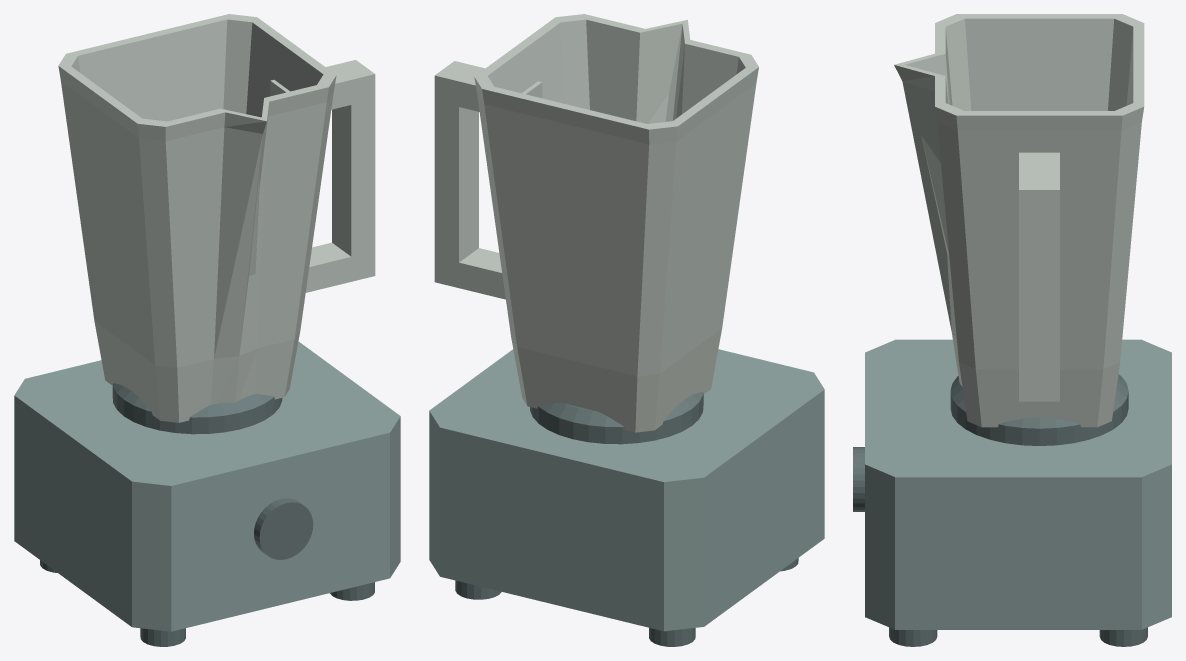
3 renders of one model, left to right at view 1: azimuth 30°, elevation 25°; view 2: azimuth 150°, elevation 25°; view 3: azimuth 270°, elevation 25°, orthographic. The views are drawn at different scales.
Parts seen in each view (by area): view 1: WholeThickTaperedChamferedJugAndOpenPourLip, WholeChamferedMotorBase, WholeOpenSideHandle, WholeShortJugSupportCollar, WholeBlankFrontControlDial, WholeGroundFoot_(-0.095, -0.105); view 2: WholeThickTaperedChamferedJugAndOpenPourLip, WholeChamferedMotorBase, WholeOpenSideHandle, WholeShortJugSupportCollar, WholeGroundFoot_(-0.095, 0.07), WholeGroundFoot_(0.095, 0.07); view 3: WholeChamferedMotorBase, WholeThickTaperedChamferedJugAndOpenPourLip, WholeOpenSideHandle, WholeShortJugSupportCollar, WholeBlankFrontControlDial, WholeGroundFoot_(0.095, -0.105), WholeGroundFoot_(0.095, 0.07).
Boxes of the visible parts, x1=… form: WholeThickTaperedChamferedJugAndOpenPourLip: x1=58, y1=14, x2=336, y2=422; WholeChamferedMotorBase: x1=14, y1=341, x2=400, y2=631; WholeOpenSideHandle: x1=270, y1=60, x2=375, y2=292; WholeShortJugSupportCollar: x1=112, y1=383, x2=282, y2=434; WholeBlankFrontControlDial: x1=254, y1=498, x2=313, y2=559; WholeGroundFoot_(-0.095, -0.105): x1=140, y1=628, x2=185, y2=646; WholeThickTaperedChamferedJugAndOpenPourLip: x1=474, y1=14, x2=758, y2=432; WholeChamferedMotorBase: x1=429, y1=349, x2=824, y2=631; WholeOpenSideHandle: x1=434, y1=61, x2=542, y2=299; WholeShortJugSupportCollar: x1=530, y1=392, x2=703, y2=444; WholeGroundFoot_(-0.095, 0.07): x1=649, y1=628, x2=695, y2=646; WholeGroundFoot_(0.095, 0.07): x1=455, y1=580, x2=501, y2=599; WholeChamferedMotorBase: x1=865, y1=339, x2=1171, y2=629; WholeThickTaperedChamferedJugAndOpenPourLip: x1=894, y1=14, x2=1144, y2=427; WholeOpenSideHandle: x1=1019, y1=152, x2=1059, y2=401; WholeShortJugSupportCollar: x1=950, y1=374, x2=1128, y2=445; WholeBlankFrontControlDial: x1=853, y1=447, x2=864, y2=511; WholeGroundFoot_(0.095, -0.105): x1=889, y1=627, x2=937, y2=646; WholeGroundFoot_(0.095, 0.07): x1=1099, y1=627, x2=1147, y2=646.
Bounding box in the file's own units: 0.304 × 0.48 × 0.265.
